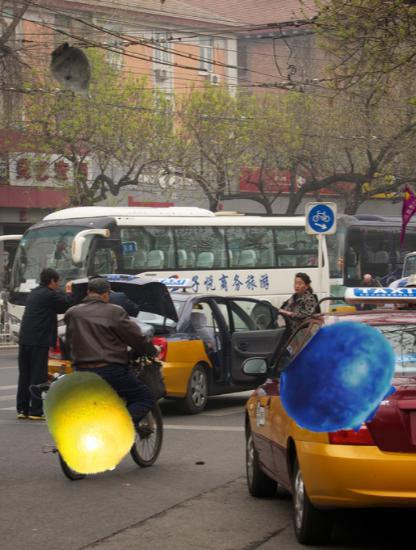Beetroot: (43, 41, 108, 106)
Huckleberry: (277, 316, 404, 443)
Pomelo: (36, 368, 143, 475)
